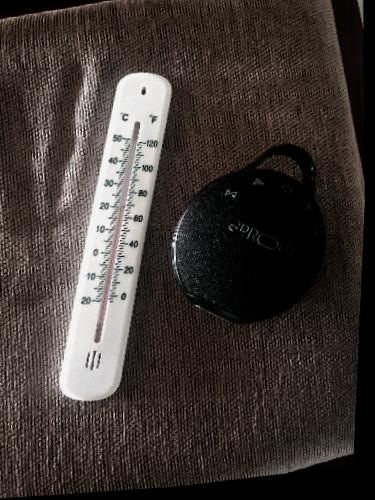thermo: (50, 63, 182, 410)
